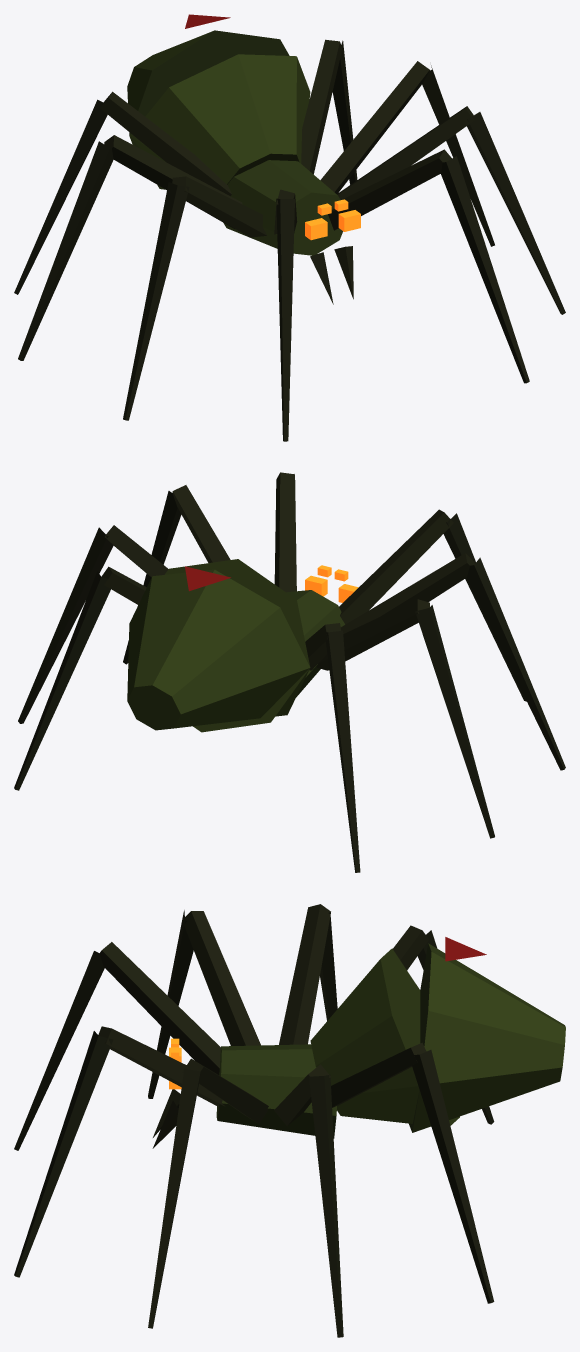
Rendered from giant_spider.glb.
The picture shows the model from 3 angles, top to bottom: view 1: azimuth 30°, elevation 25°; view 2: azimuth 150°, elevation 25°; view 3: azimuth 270°, elevation 25°; orthographic projection. The views are drawn at different scales.
Parts seen in each view (by area): view 1: giant_spider_body, giant_spider_leg_l1, giant_spider_leg_r2, giant_spider_leg_r4, giant_spider_leg_r3, giant_spider_leg_l2, giant_spider_leg_l3, giant_spider_leg_l4, giant_spider_leg_r1; view 2: giant_spider_body, giant_spider_leg_r2, giant_spider_leg_r3, giant_spider_leg_r1, giant_spider_leg_l3, giant_spider_leg_l4, giant_spider_leg_r4, giant_spider_leg_l2, giant_spider_leg_l1; view 3: giant_spider_body, giant_spider_leg_r1, giant_spider_leg_l4, giant_spider_leg_l1, giant_spider_leg_r2, giant_spider_leg_l3, giant_spider_leg_r3, giant_spider_leg_l2, giant_spider_leg_r4.
Part boxes in pixels (x1,y1,x2,y2): giant_spider_body: (127,14,360,304); giant_spider_leg_l1: (328,149,529,383); giant_spider_leg_r2: (123,176,267,420); giant_spider_leg_r4: (14,91,231,294); giant_spider_leg_r3: (18,135,242,360); giant_spider_leg_l2: (337,106,565,314); giant_spider_leg_l3: (320,61,494,246); giant_spider_leg_l4: (301,39,357,184); giant_spider_leg_r1: (274,189,297,441); giant_spider_body: (127,559,358,732); giant_spider_leg_r2: (340,553,565,770); giant_spider_leg_r3: (317,599,494,838); giant_spider_leg_r1: (339,509,526,701); giant_spider_leg_l3: (18,525,168,723); giant_spider_leg_l4: (14,566,146,790); giant_spider_leg_r4: (305,623,360,872); giant_spider_leg_l2: (123,485,230,664); giant_spider_leg_l1: (274,472,296,592); giant_spider_body: (152,937,565,1148); giant_spider_leg_r1: (14,942,220,1150); giant_spider_leg_l4: (331,1042,494,1303); giant_spider_leg_l1: (14,1026,224,1277); giant_spider_leg_r2: (148,910,260,1098); giant_spider_leg_l3: (274,1064,343,1337); giant_spider_leg_r3: (279,904,337,1044); giant_spider_leg_l2: (148,1058,268,1328); giant_spider_leg_r4: (393,925,494,1124).
Bounding box in the file's own units: 1.42 × 0.6975 × 1.32.
